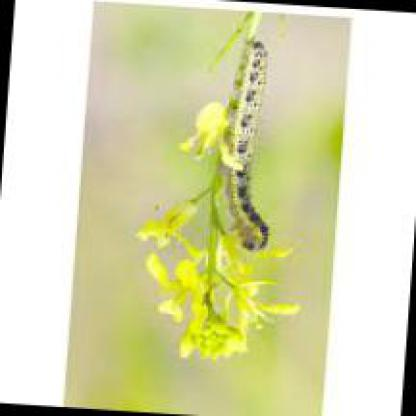pieris: (218, 38, 271, 252)
